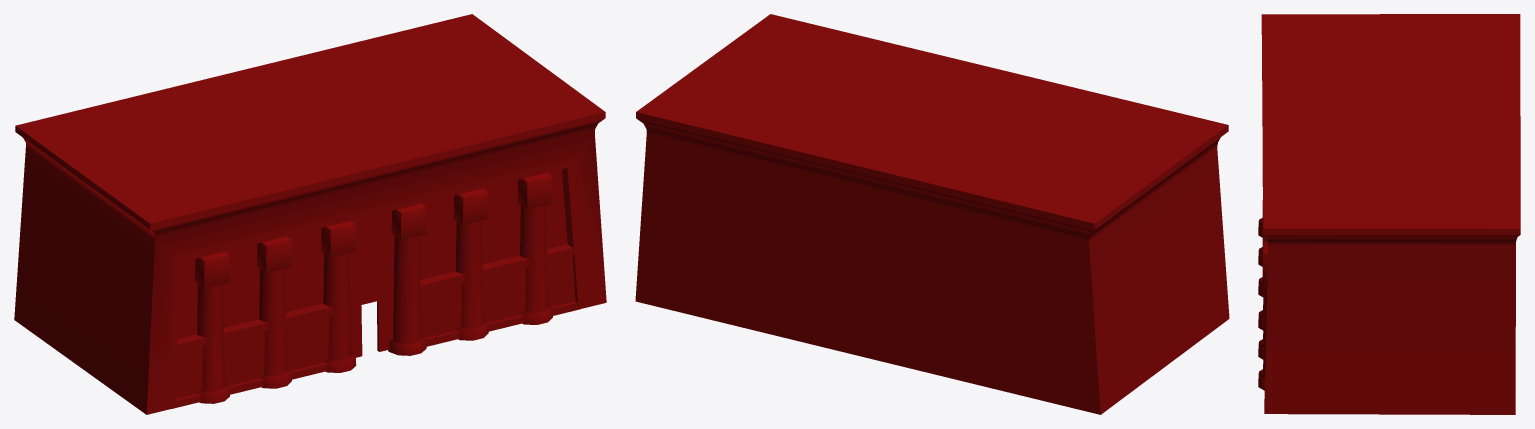
Rendered from Central_Temple_for_Unity.fbx.
The picture shows the model from 3 angles, left to right: view 1: azimuth 30°, elevation 25°; view 2: azimuth 150°, elevation 25°; view 3: azimuth 270°, elevation 25°; orthographic projection. The views are drawn at different scales.
Parts seen in each view (by area): view 1: Central_Temple_Low, temple_column_Low5, temple_column_Low1, temple_column_Low2, temple_column_Low, temple_column_Low3, temple_column_Low4; view 2: Central_Temple_Low; view 3: Central_Temple_Low, temple_column_Low4, temple_column_Low3.
Part boxes in pixels (x1=…): Central_Temple_Low: x1=14, y1=14, x2=606, y2=414; temple_column_Low5: x1=388, y1=203, x2=426, y2=355; temple_column_Low1: x1=321, y1=220, x2=356, y2=372; temple_column_Low2: x1=257, y1=236, x2=292, y2=388; temple_column_Low: x1=195, y1=251, x2=229, y2=403; temple_column_Low3: x1=453, y1=188, x2=488, y2=340; temple_column_Low4: x1=518, y1=173, x2=552, y2=324; Central_Temple_Low: x1=635, y1=14, x2=1229, y2=414; Central_Temple_Low: x1=1261, y1=14, x2=1520, y2=414; temple_column_Low4: x1=1258, y1=241, x2=1267, y2=390; temple_column_Low3: x1=1258, y1=218, x2=1267, y2=359.
Bounding box in the file's own units: 3131 × 1251 × 1592.
